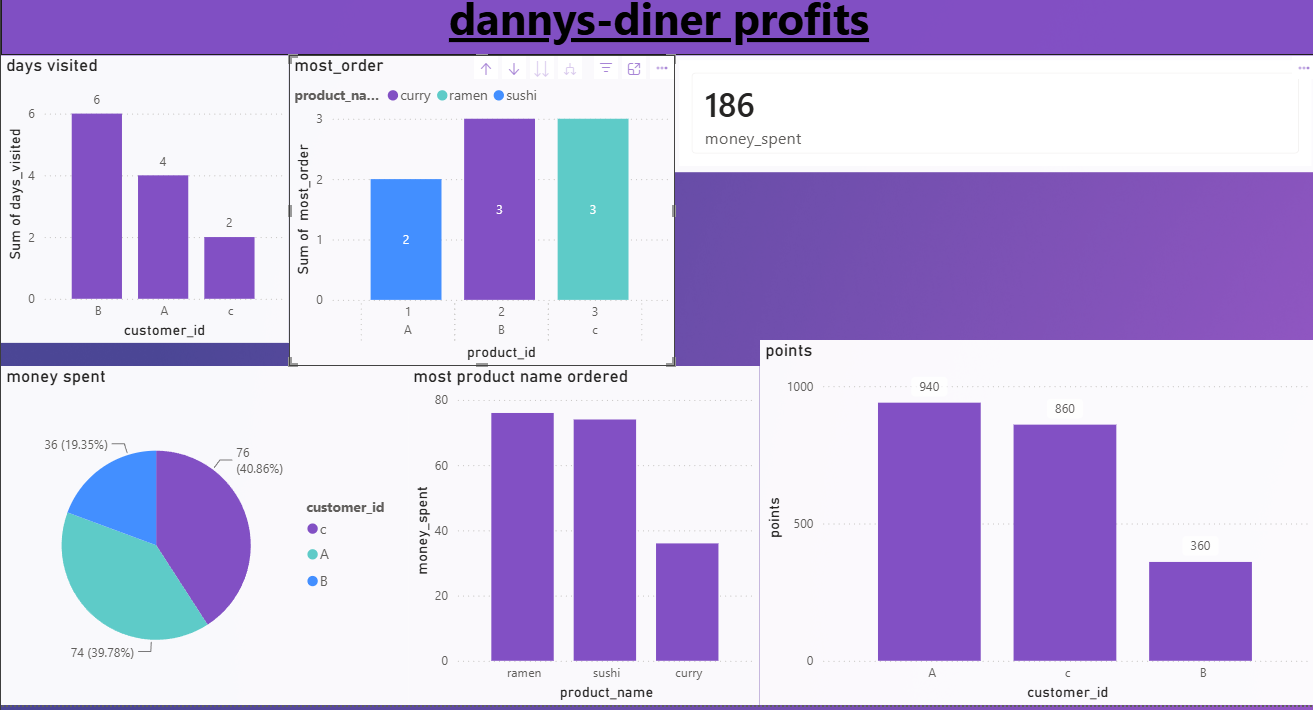

What the dashboard file says about the page in this screenshot:
{"tool":"powerbi","page":{"name":"Page 1","canvas":[1280,720],"ordinal":0},"visuals":[{"type":"clusteredColumnChart","title":"days visited","fields":{"Category":["Table1.customer_id"],"Y":["Sum(Table1.days_visited)"]},"box":[0,87.5,280.1,280.1],"z":0},{"type":"cardVisual","fields":{"Data":["Sum(Table1.money_spent)"]},"box":[654.6,87.5,625.4,131.3],"z":1},{"type":"textbox","box":[0,0,1280,87.5],"z":3},{"type":"columnChart","title":"  most_order ","fields":{"Category":["Table1.customer_id","Table1.product_id"],"Series":["Table1.product_name"],"Y":["Sum(Table1. most_order)"]},"box":[280.1,87.5,375.4,302.5],"z":4},{"type":"pieChart","title":"money spent ","fields":{"Category":["Table1.customer_id"],"Y":["Sum(Table1.money_spent)"]},"box":[0,390,395.9,329.7],"z":5},{"type":"lineStackedColumnComboChart","title":"most product name ordered","fields":{"Category":["Table1.product_name"],"Y":["Sum(Table1.money_spent)"]},"box":[395.9,390,342.4,329.7],"z":6},{"type":"lineStackedColumnComboChart","title":" points ","fields":{"Category":["Table1.customer_id"],"Y":["Sum(Table1.points)"]},"box":[738.2,364.7,541.8,355],"z":7}]}

Visuals, with their boxes on the page's 1280x720 design canvas (x1, y1, x2, y2). These are canvas units, not pixel positions in the 1313x710 screenshot, which may show the page scaled, cropped or inside an application window:
"days visited" clusteredColumnChart: [x1=0, y1=88, x2=280, y2=368]
cardVisual - Sum(Table1.money_spent): [x1=655, y1=88, x2=1280, y2=219]
textbox: [x1=0, y1=0, x2=1280, y2=88]
"  most_order " columnChart: [x1=280, y1=88, x2=656, y2=390]
"money spent " pieChart: [x1=0, y1=390, x2=396, y2=720]
"most product name ordered" lineStackedColumnComboChart: [x1=396, y1=390, x2=738, y2=720]
" points " lineStackedColumnComboChart: [x1=738, y1=365, x2=1280, y2=720]
